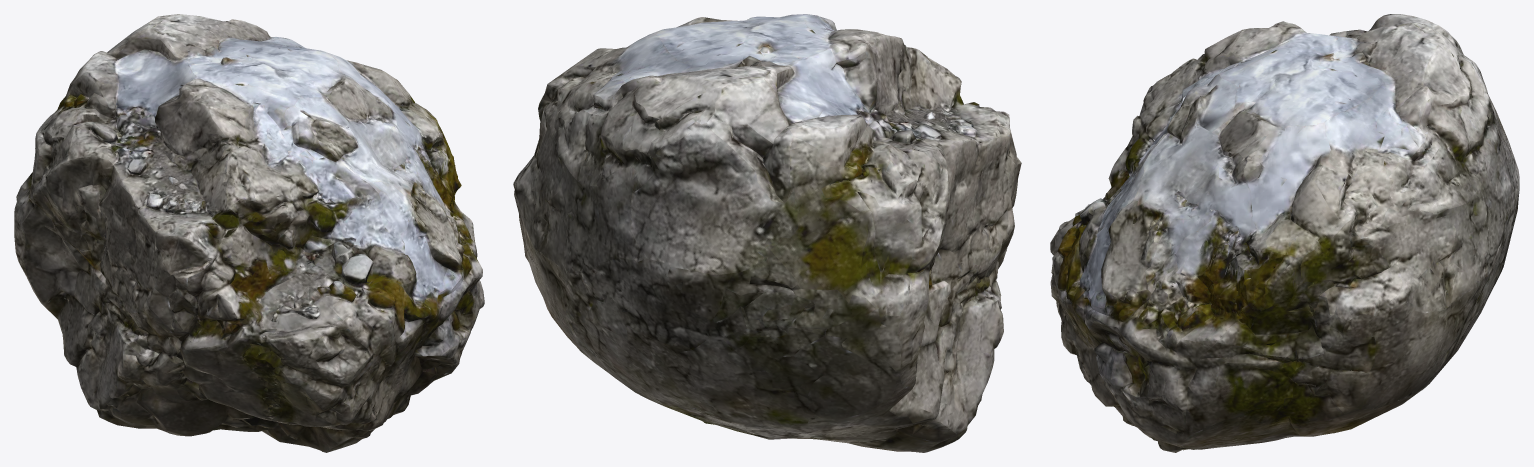
File: glacial-erratic-01-web.glb
The picture shows the model from 3 angles, left to right: view 1: azimuth 30°, elevation 25°; view 2: azimuth 150°, elevation 25°; view 3: azimuth 270°, elevation 25°; orthographic projection. The views are drawn at different scales.
Visible parts, largest first — view 1: geometry_0; view 2: geometry_0; view 3: geometry_0.
Boxes of the visible parts, x1,y1,x2,y2 form: geometry_0: [14, 14, 484, 452]; geometry_0: [513, 14, 1021, 452]; geometry_0: [1050, 14, 1519, 452].
Bounding box in the file's own units: 0.7982 × 0.7138 × 0.8184.
1 material, 1 textured.
